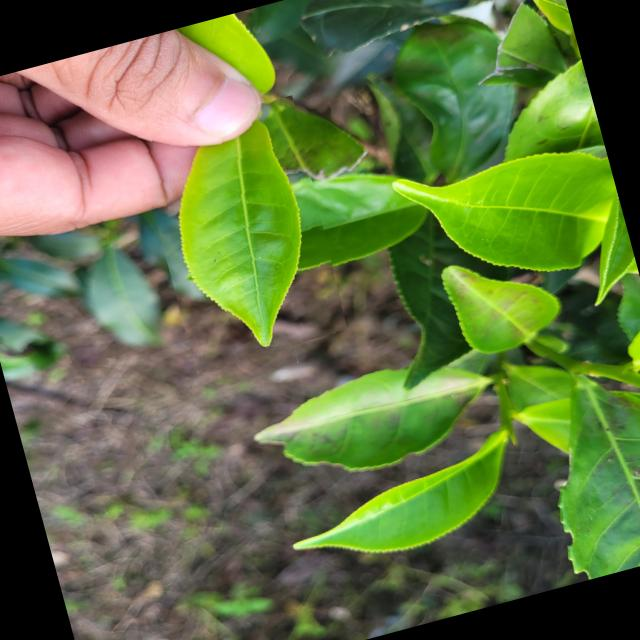Category B(2-4 days): (134, 94, 356, 372)
